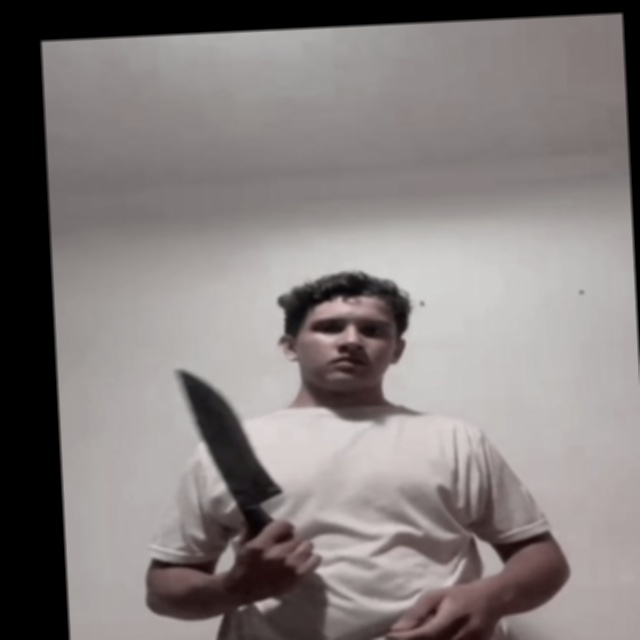Sharp-Object: (173, 363, 283, 504)
